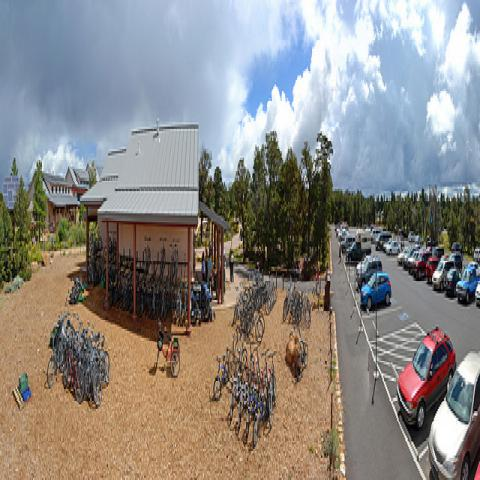car: (428, 349, 480, 478), (397, 324, 457, 431), (361, 272, 392, 309), (358, 255, 383, 292), (432, 258, 456, 292), (446, 270, 461, 298), (425, 256, 439, 282), (356, 255, 371, 278), (341, 236, 356, 255), (386, 240, 402, 255)
truck: (454, 267, 480, 304), (357, 256, 383, 291), (346, 230, 372, 262), (413, 250, 433, 280), (376, 232, 392, 249)
